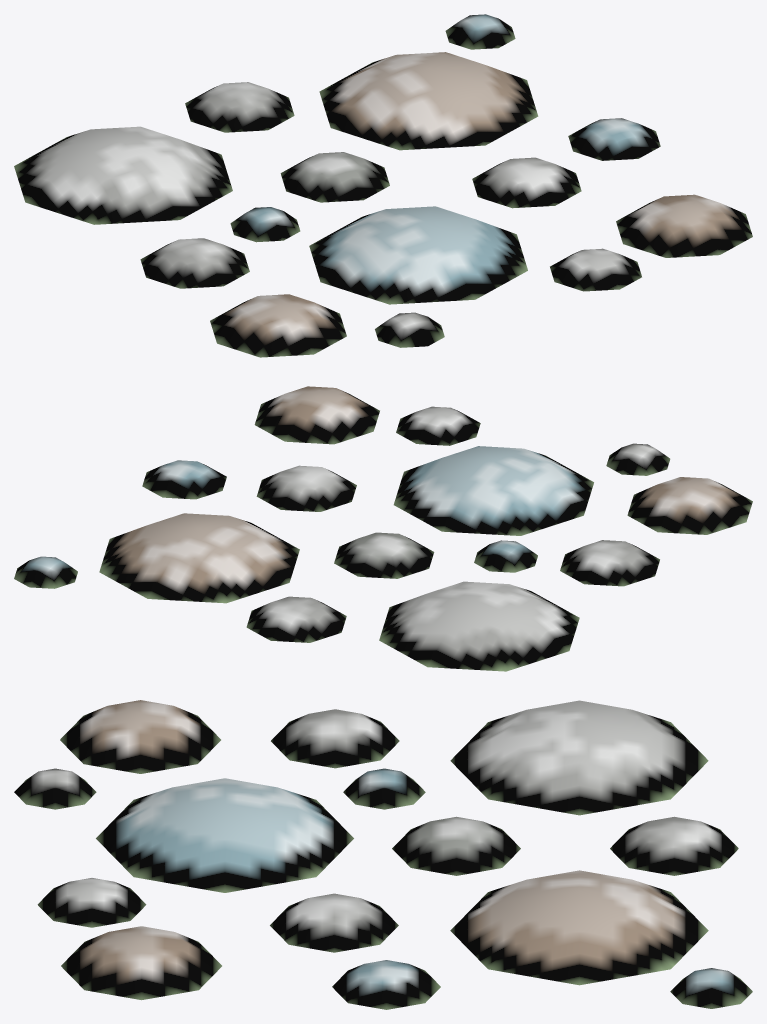
File: deco_floorPaveStonesGroupA.FBX
3 renders of one model, top to bottom at view 1: azimuth 30°, elevation 25°; view 2: azimuth 150°, elevation 25°; view 3: azimuth 270°, elevation 25°, orthographic. The views are drawn at different scales.
Visible parts, largest first — view 1: deco_floorPaveStonesGroupA; view 2: deco_floorPaveStonesGroupA; view 3: deco_floorPaveStonesGroupA.
Boxes of the visible parts, bbox=[...] form: deco_floorPaveStonesGroupA: bbox=[14, 14, 752, 357]; deco_floorPaveStonesGroupA: bbox=[14, 386, 752, 671]; deco_floorPaveStonesGroupA: bbox=[14, 700, 752, 1009].
Size of the model in its own units: 1.86 by 0.1143 by 1.91.
Materials: 1 (1 with a texture image).
